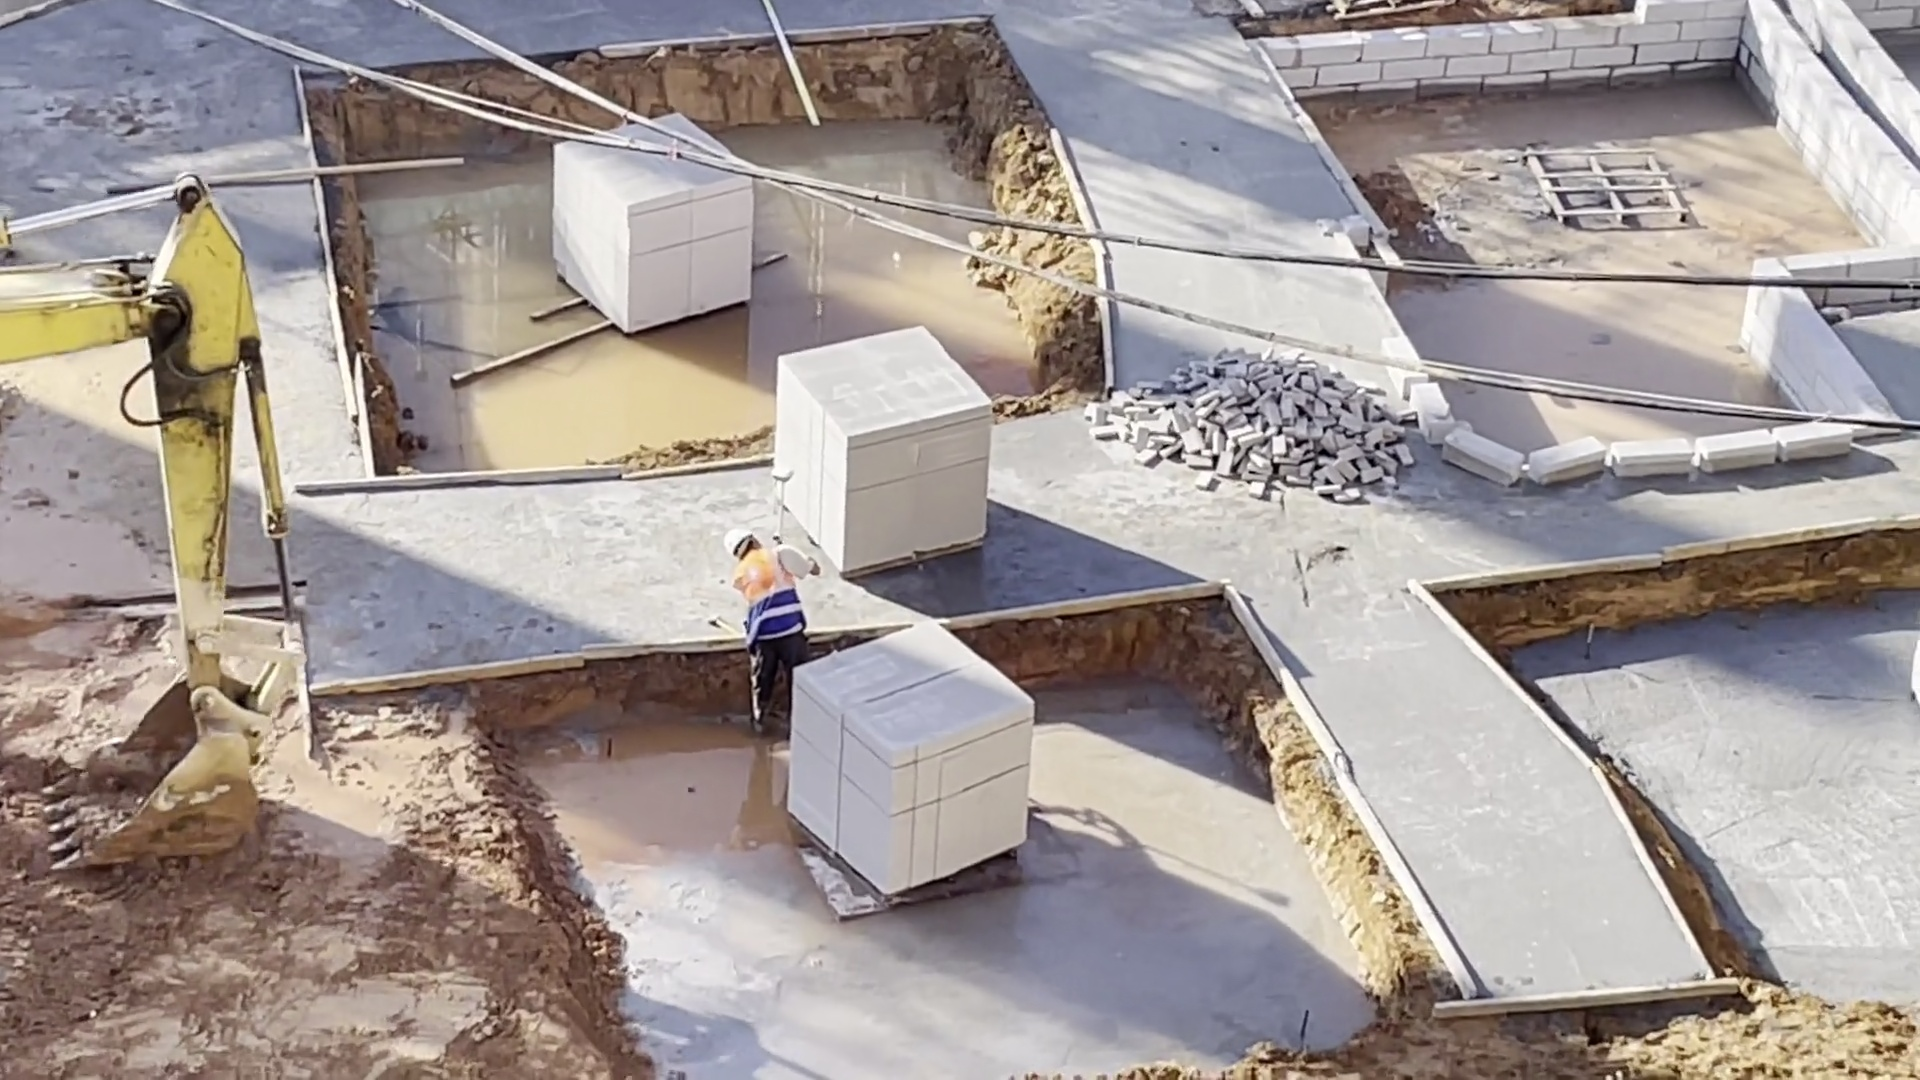brick: (777, 611, 1032, 901), (763, 317, 1008, 573), (1078, 338, 1417, 507), (538, 108, 759, 336)
helmet: (716, 524, 749, 556)
person: (712, 523, 821, 756)
vest: (733, 552, 802, 659)
